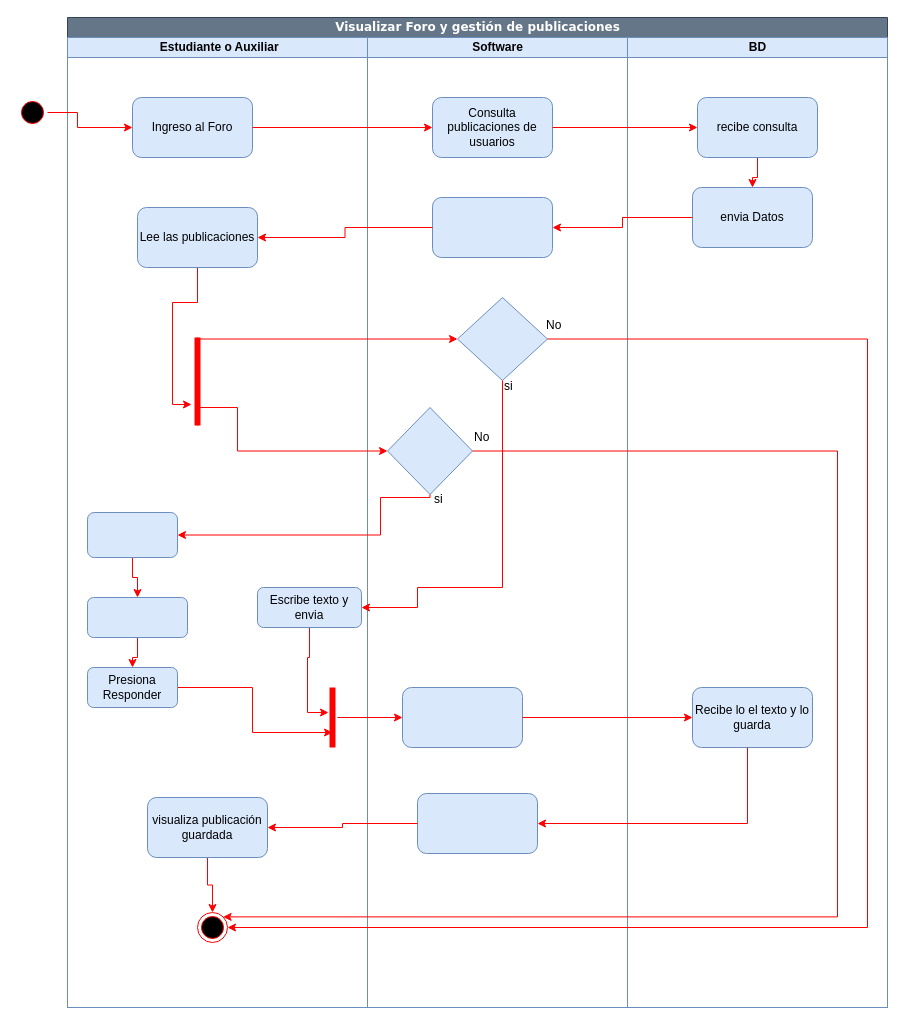
Image size: 905x1025. Some labels were removed from this diagram. Here are the shapes that lost their labels. From the top down, the centre of each, then its label:
[492,227]: Carga y Muestra Publicaciones
[502,338]: Crear publicación?
[429,450]: Responder Publicación?
[132,535]: Selecciona publicacion
[137,617]: Escribe texto
[462,717]: Sistema obtiene texto y envia
[477,823]: guardado exitosamente
